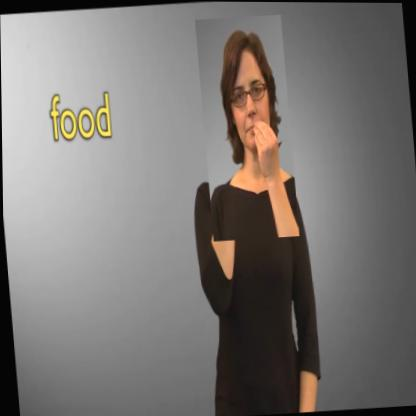Food: (195, 14, 299, 241)
